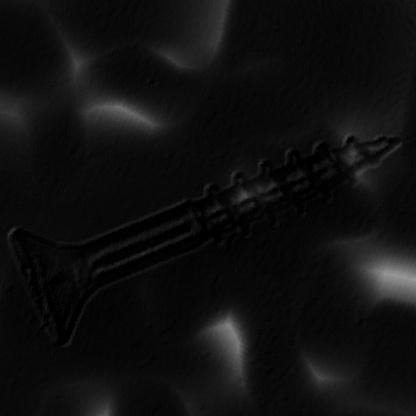metal: (8, 134, 405, 350)
